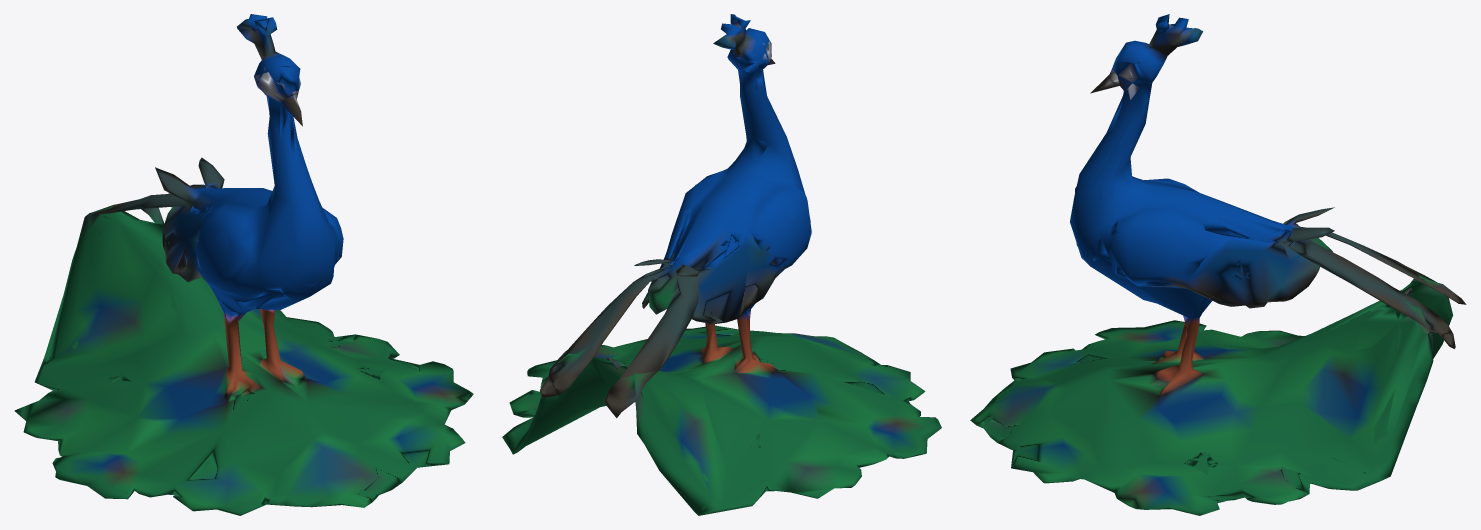
Rendered from gen3d-peacock-lod0.glb.
The picture shows the model from 3 angles, left to right: view 1: azimuth 30°, elevation 25°; view 2: azimuth 150°, elevation 25°; view 3: azimuth 270°, elevation 25°; orthographic projection. The views are drawn at different scales.
Parts seen in each view (by area): view 1: part_0; view 2: part_0; view 3: part_0.
Boxes of the visible parts, x1=… form: part_0: x1=14, y1=14, x2=473, y2=515; part_0: x1=502, y1=14, x2=941, y2=515; part_0: x1=970, y1=14, x2=1466, y2=515.
Size of the model in its own units: 1.03 by 0.9913 by 1.1.
